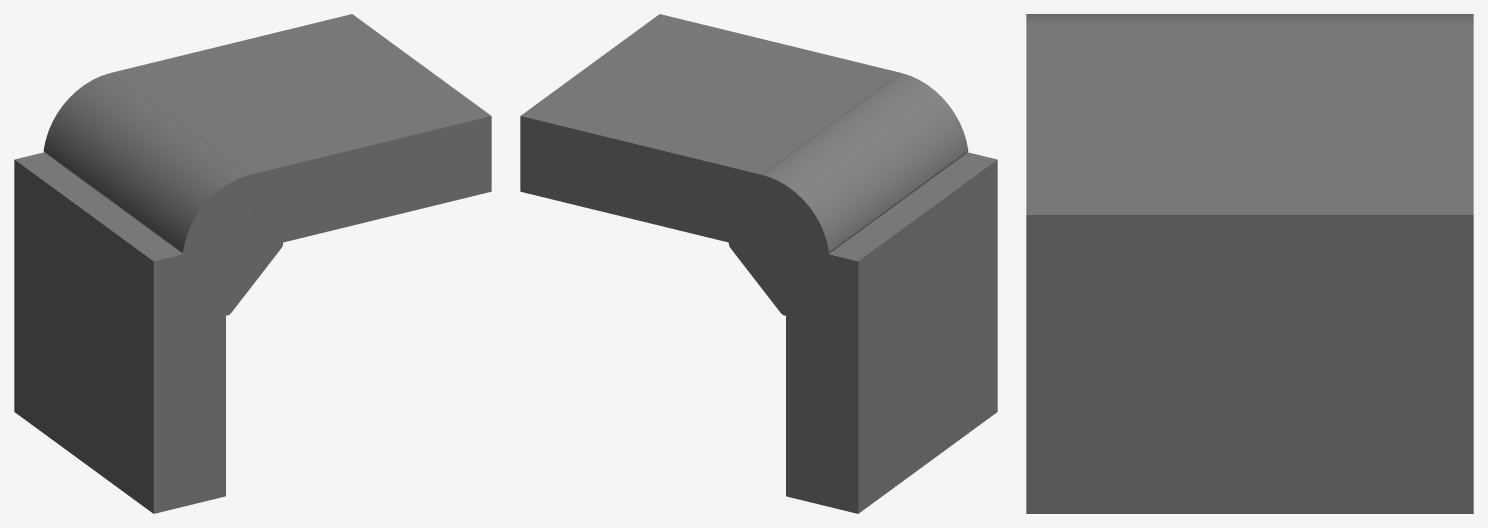
The picture shows the model from 3 angles, left to right: view 1: azimuth 30°, elevation 25°; view 2: azimuth 150°, elevation 25°; view 3: azimuth 270°, elevation 25°; orthographic projection. The views are drawn at different scales.
Visible parts, largest first — view 1: mesh_id4, mesh_id5; view 2: mesh_id4, mesh_id5; view 3: mesh_id4, mesh_id5.
Boxes of the visible parts, x1,y1,x2,y2 form: mesh_id4: [14, 14, 491, 513]; mesh_id5: [43, 73, 283, 315]; mesh_id4: [520, 14, 997, 513]; mesh_id5: [728, 73, 968, 315]; mesh_id4: [1026, 25, 1473, 513]; mesh_id5: [1026, 14, 1473, 25].
Bounding box in the file's own units: 0.512 × 0.4572 × 0.3657.
Materials: 2 (2 with a texture image).
